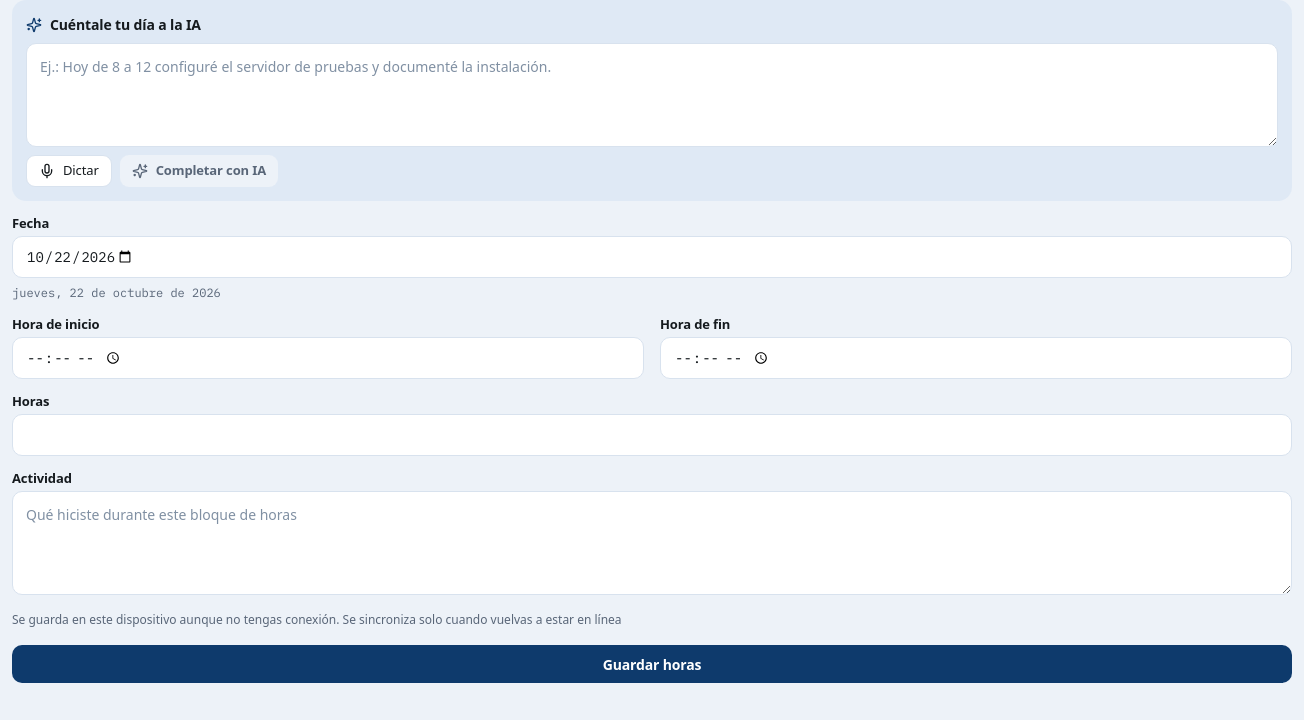
Test: HourLogForm — horas calculadas desde inicio y fin › más de 8 horas entre inicio y fin avisa en cuanto se completan los datos
In the time field labelled "Hora de inicio": (328, 358) [12,337,644,379], type "08:00"
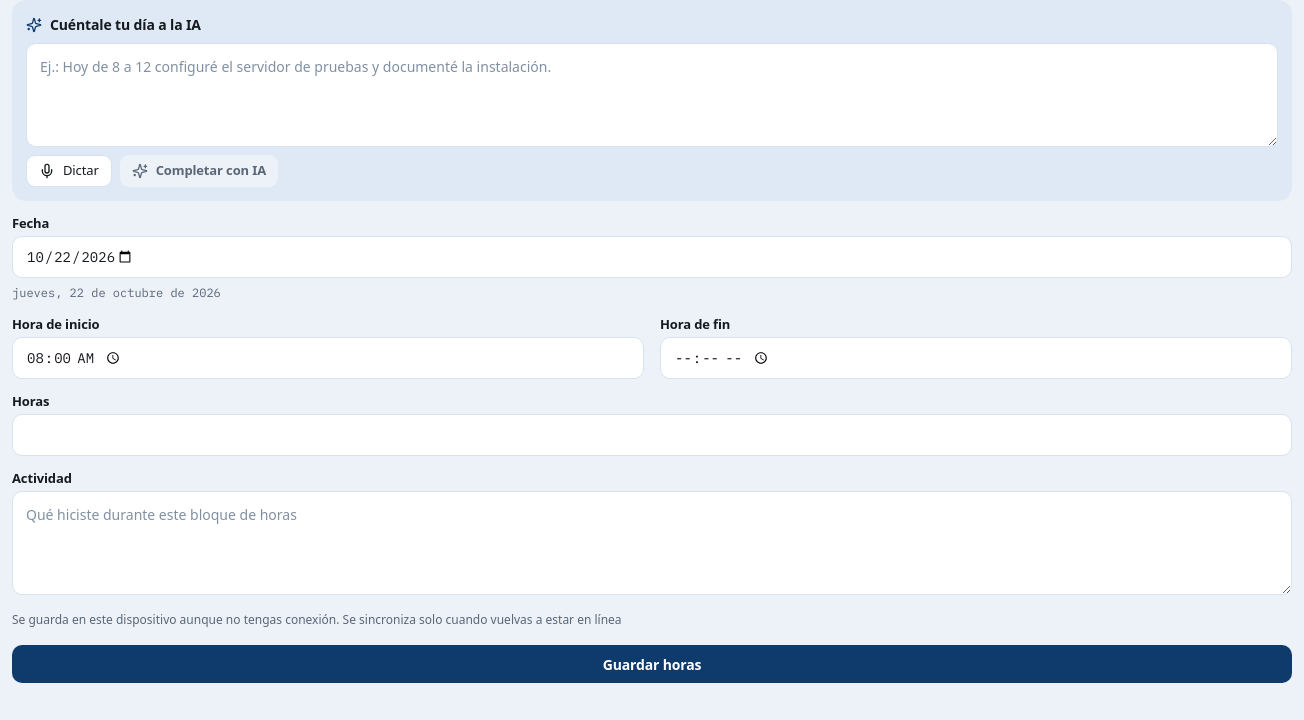
In the time field labelled "Hora de fin": (976, 358) [660,337,1292,379], type "17:00"
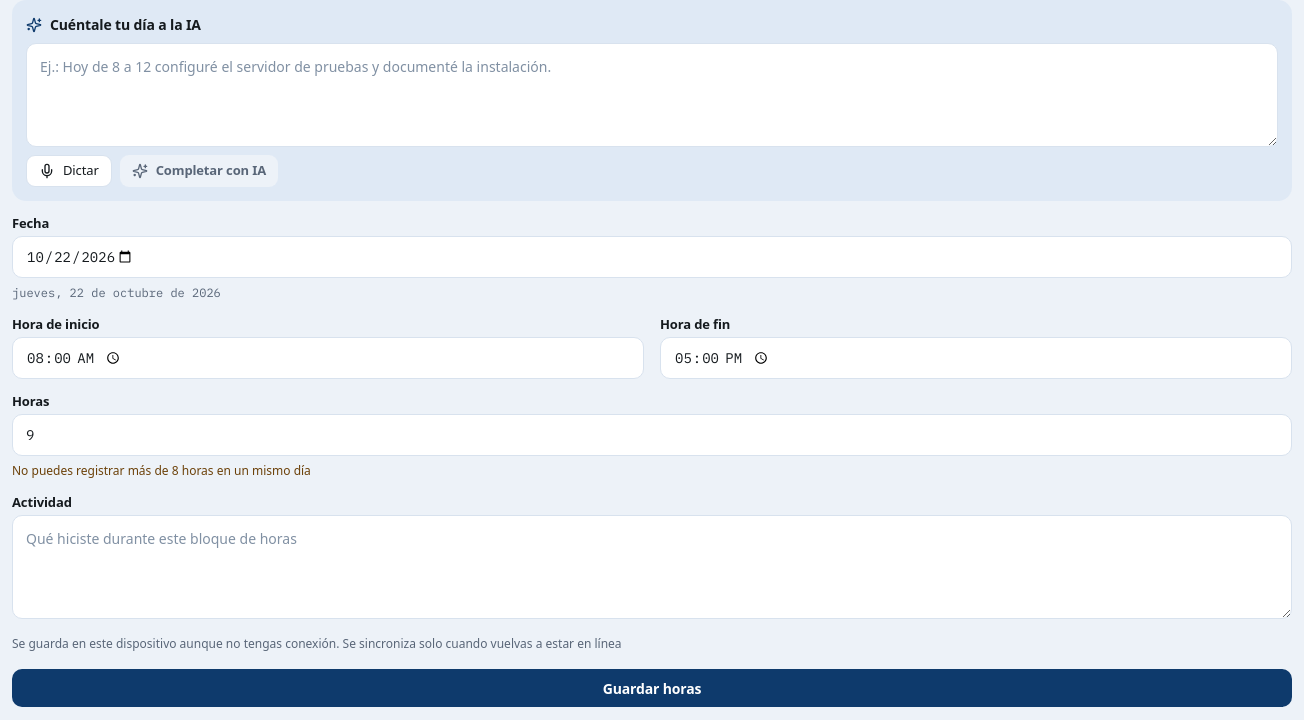
Check: the number field labelled "Horas" holds "9", box [12,414,1292,456]
Check: the text "No puedes registrar más de 8 horas en un mismo día" is shown, box [12,462,311,479]
